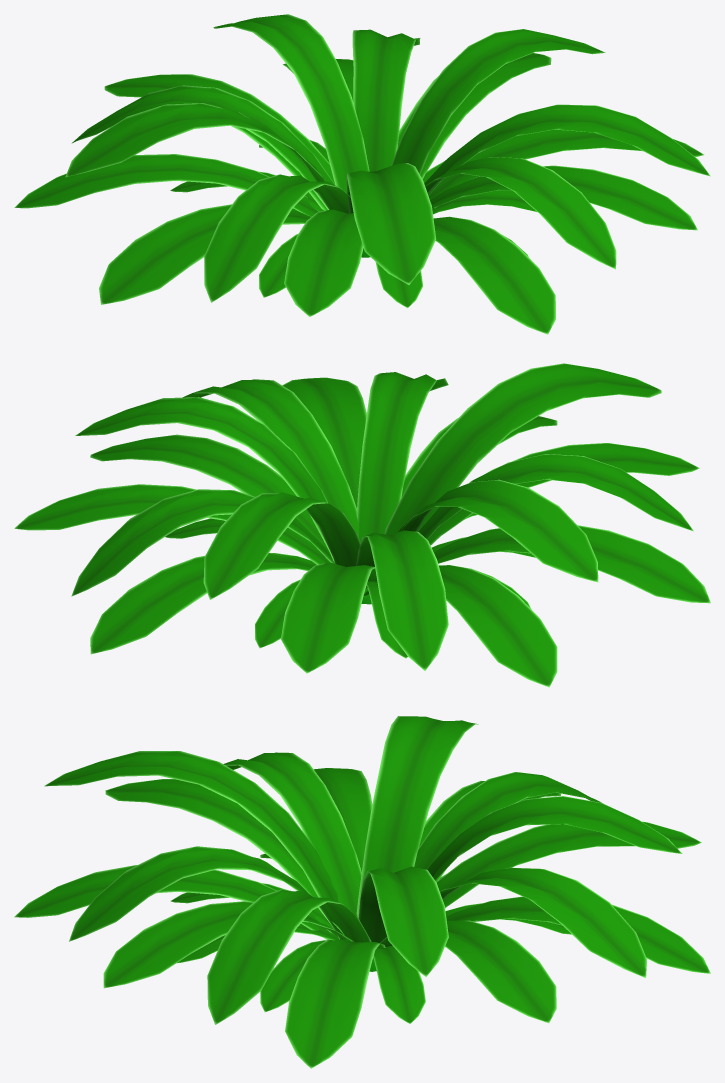
The model's file is Plant.fbx.
3 renders of one model, top to bottom at view 1: azimuth 30°, elevation 25°; view 2: azimuth 150°, elevation 25°; view 3: azimuth 270°, elevation 25°, orthographic.
Visible parts, largest first — view 1: Plane_23, Plane_19, Plane_20, Plane_2_2, Plane_25, Plane_27, Plane_26, Plane_7, Plane_24, Plane_6, Plane_8, Plane_21 (+9 smaller); view 2: Plane_19, Plane_22, Plane_27, Plane_23, Plane_21, Plane_6, Plane_5, Plane_25, Plane_7, Plane_26, Plane_4, Plane_24 (+9 smaller); view 3: Plane_21, Plane_26, Plane_19, Plane_2, Plane_24, Plane_25, Plane_20, Plane_3, Plane_23, Plane_27, Plane_1, Plane_5 (+10 smaller).
Part boxes in pixels (x1=…): Plane_23: x1=213, y1=14, x2=369, y2=193; Plane_19: x1=346, y1=163, x2=436, y2=284; Plane_20: x1=204, y1=174, x2=350, y2=302; Plane_2_2: x1=433, y1=216, x2=555, y2=334; Plane_25: x1=391, y1=29, x2=605, y2=174; Plane_27: x1=425, y1=157, x2=616, y2=269; Plane_26: x1=424, y1=104, x2=710, y2=195; Plane_7: x1=99, y1=204, x2=310, y2=304; Plane_24: x1=352, y1=29, x2=420, y2=171; Plane_6: x1=14, y1=154, x2=318, y2=216; Plane_8: x1=284, y1=209, x2=363, y2=316; Plane_21: x1=65, y1=103, x2=325, y2=181; Plane_19: x1=384, y1=363, x2=661, y2=534; Plane_22: x1=356, y1=530, x2=448, y2=670; Plane_27: x1=356, y1=372, x2=448, y2=542; Plane_23: x1=203, y1=492, x2=360, y2=599; Plane_21: x1=369, y1=479, x2=598, y2=596; Plane_6: x1=363, y1=565, x2=557, y2=687; Plane_5: x1=281, y1=562, x2=377, y2=673; Plane_25: x1=75, y1=397, x2=334, y2=562; Plane_7: x1=434, y1=525, x2=710, y2=603; Plane_26: x1=182, y1=379, x2=359, y2=537; Plane_4: x1=90, y1=553, x2=364, y2=654; Plane_24: x1=71, y1=489, x2=335, y2=596; Plane_21: x1=356, y1=716, x2=478, y2=917; Plane_26: x1=207, y1=889, x2=371, y2=1024; Plane_19: x1=44, y1=751, x2=339, y2=939; Plane_2: x1=285, y1=939, x2=385, y2=1068; Plane_24: x1=440, y1=867, x2=646, y2=977; Plane_25: x1=358, y1=866, x2=448, y2=976; Plane_20: x1=223, y1=752, x2=361, y2=916; Plane_3: x1=380, y1=920, x2=556, y2=1023; Plane_23: x1=428, y1=796, x2=682, y2=880; Plane_27: x1=69, y1=846, x2=344, y2=941; Plane_1: x1=103, y1=901, x2=353, y2=988; Plane_5: x1=436, y1=821, x2=701, y2=907.
Bounding box in the file's own units: 2069 × 504 × 2041.
2 materials, 1 textured.
